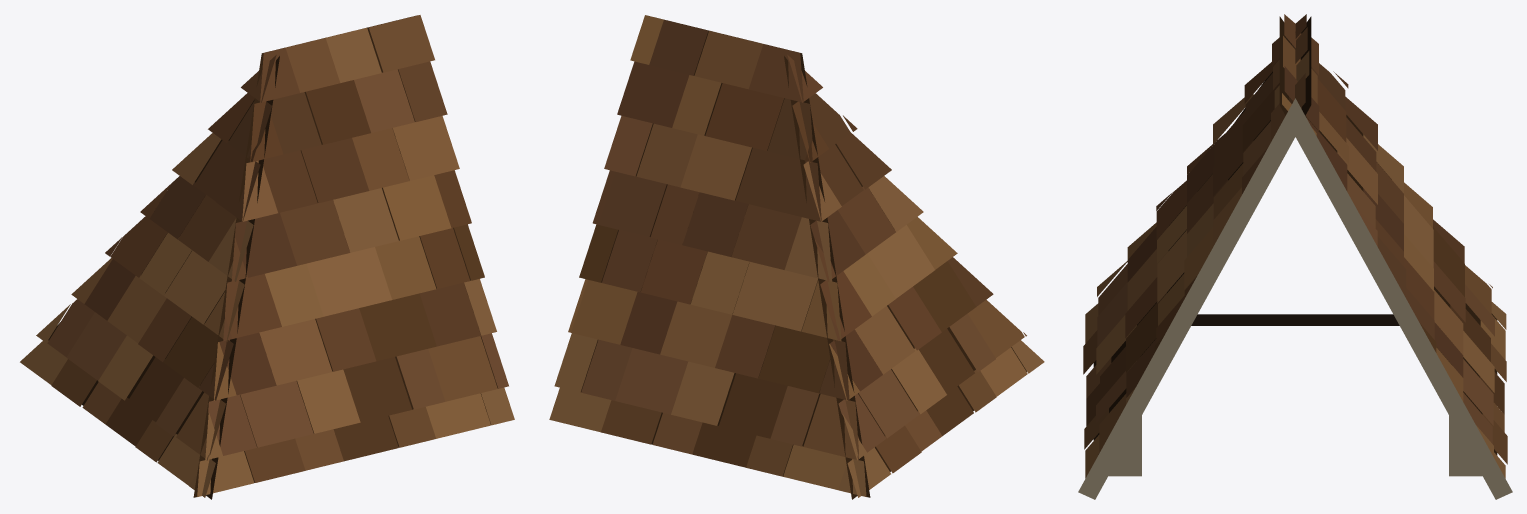
Rendered from roof-high-gable-end-wood.glb.
3 renders of one model, left to right at view 1: azimuth 30°, elevation 25°; view 2: azimuth 150°, elevation 25°; view 3: azimuth 270°, elevation 25°, orthographic. The views are drawn at different scales.
Visible parts, largest first — view 1: roof-high-gable-end-wood; view 2: roof-high-gable-end-wood; view 3: roof-high-gable-end-wood.
Part boxes in pixels (left/top/right/bottom): roof-high-gable-end-wood: left=20, top=15, right=514, bottom=499; roof-high-gable-end-wood: left=549, top=15, right=1044, bottom=499; roof-high-gable-end-wood: left=1078, top=14, right=1512, bottom=499.
Bounding box in the file's own units: 1.12 × 1.16 × 1.13.
